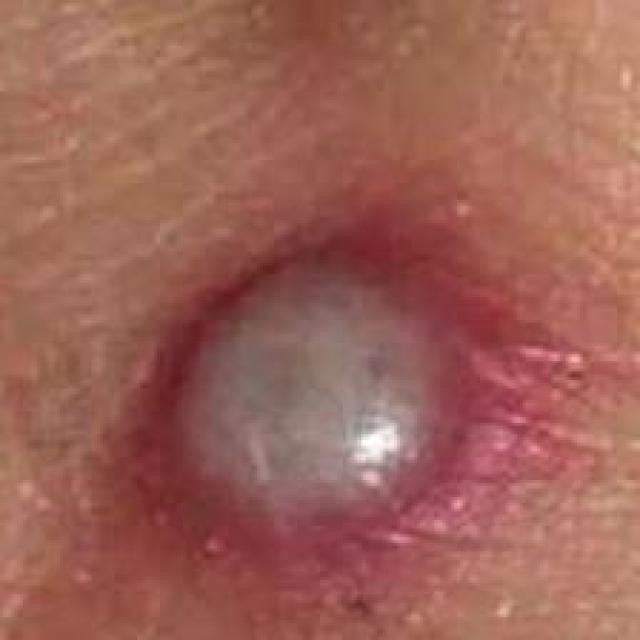monkeypox: (30, 74, 597, 640)
